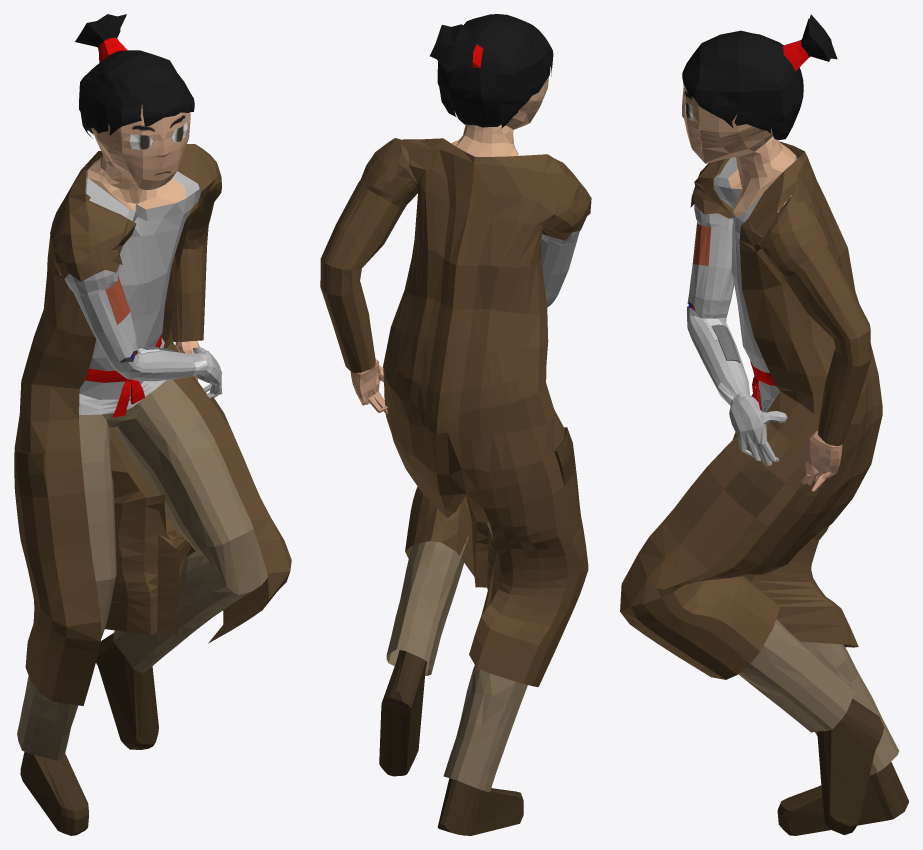
File: One_RF_000007.obj
The picture shows the model from 3 angles, left to right: view 1: azimuth 30°, elevation 25°; view 2: azimuth 150°, elevation 25°; view 3: azimuth 270°, elevation 25°; orthographic projection. The views are drawn at different scales.
Visible parts, largest first — view 1: Hair_Cube.004; view 2: Hair_Cube.004; view 3: Hair_Cube.004.
Boxes of the visible parts, x1,y1,x2,y2 form: Hair_Cube.004: (14,14,291,835); Hair_Cube.004: (320,14,591,835); Hair_Cube.004: (620,14,908,835).
Bounding box in the file's own units: 1.09 × 3.86 × 1.21.
